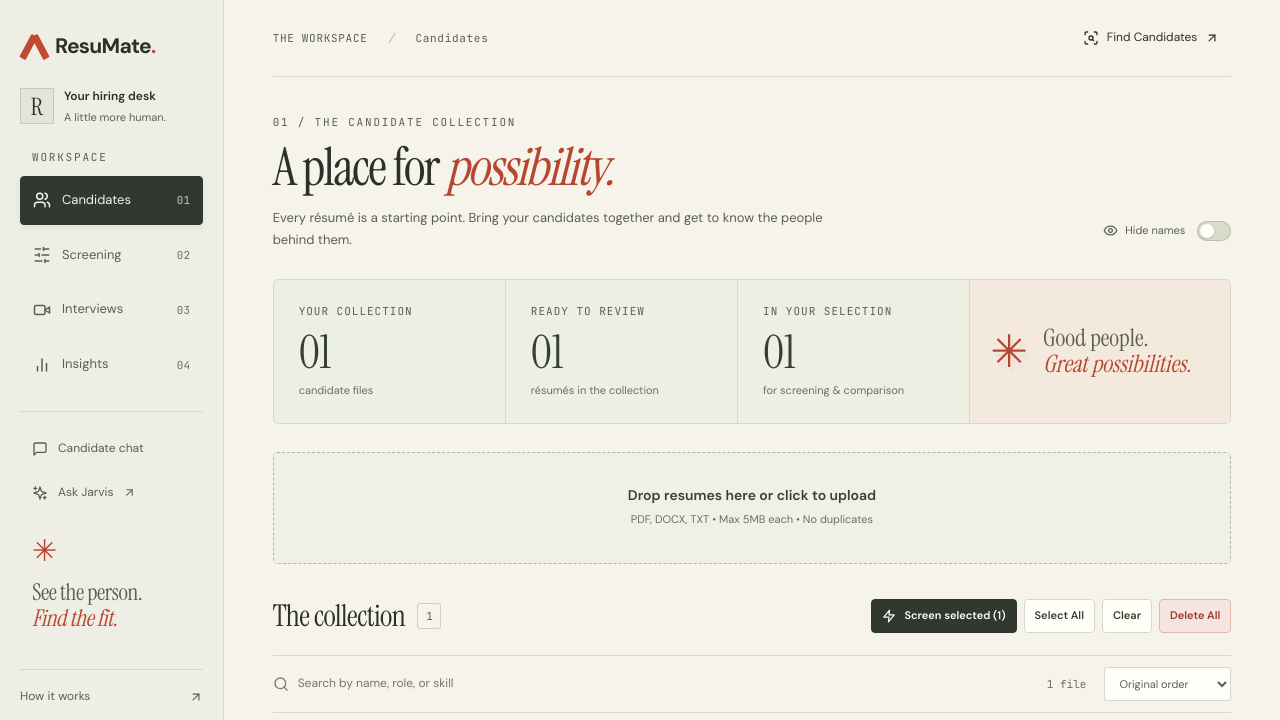
Test case: the candidate chat › labels its message box and its send button
Click the button "Candidate chat" at (112,449), box [20, 430, 203, 467]
(page scrolled)
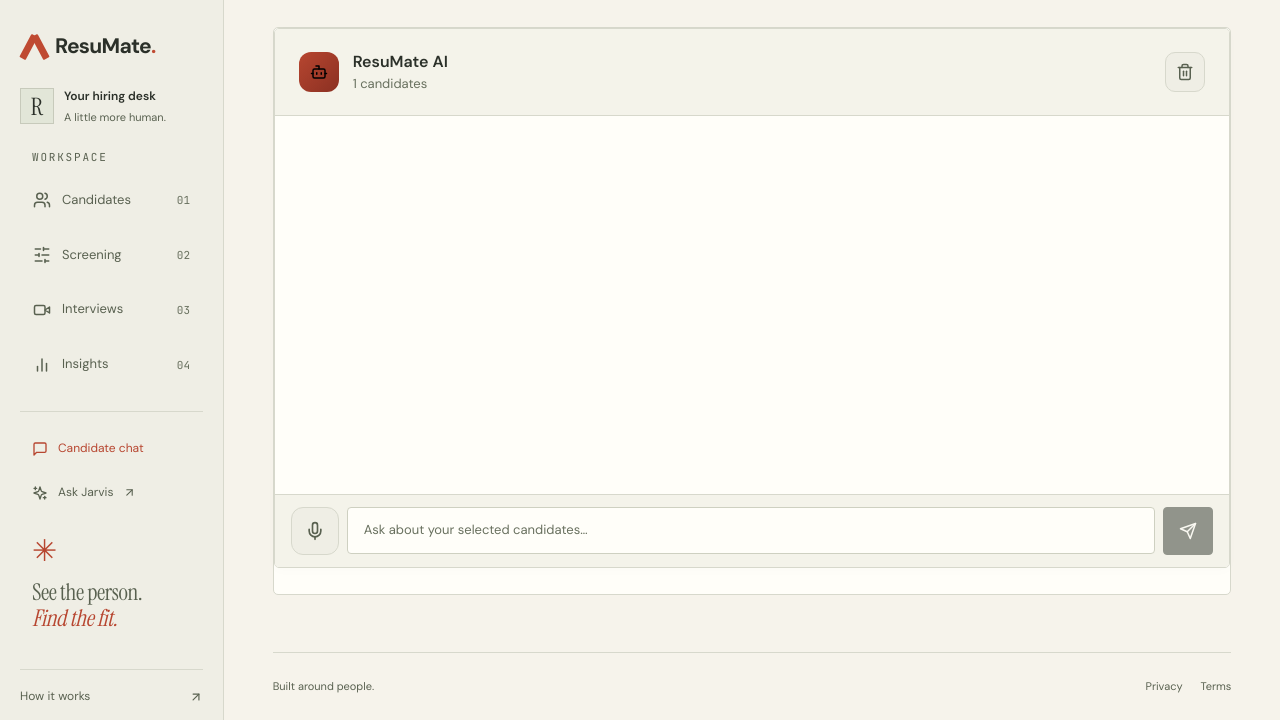
Check: the field named "Message the AI assistant" is shown, box [347, 507, 1155, 554]
Check: the button named "Send" is shown, box [1163, 507, 1213, 555]
